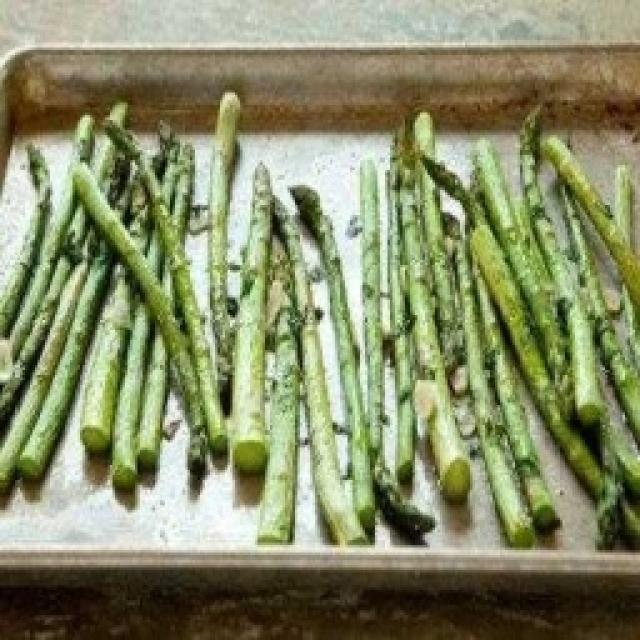Asparagus spear: (413, 185, 474, 499), (233, 183, 278, 469), (550, 224, 614, 422), (320, 183, 368, 431), (266, 257, 298, 550), (79, 282, 123, 457), (202, 100, 228, 291)
